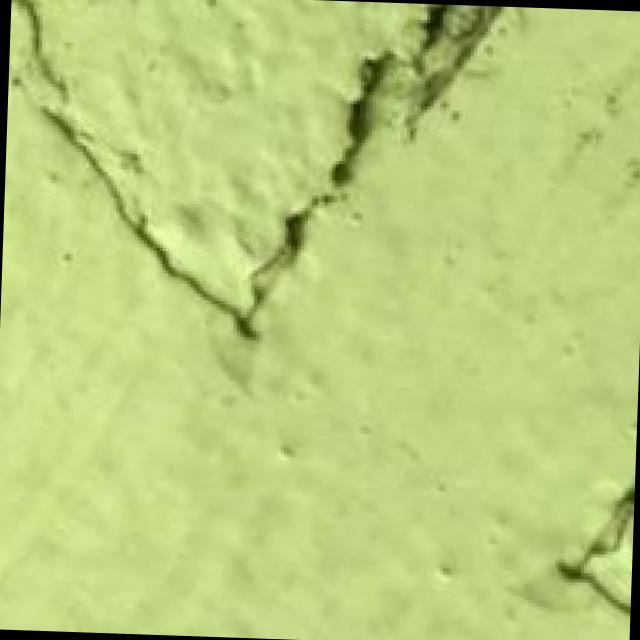crack: (88, 0, 488, 373)
